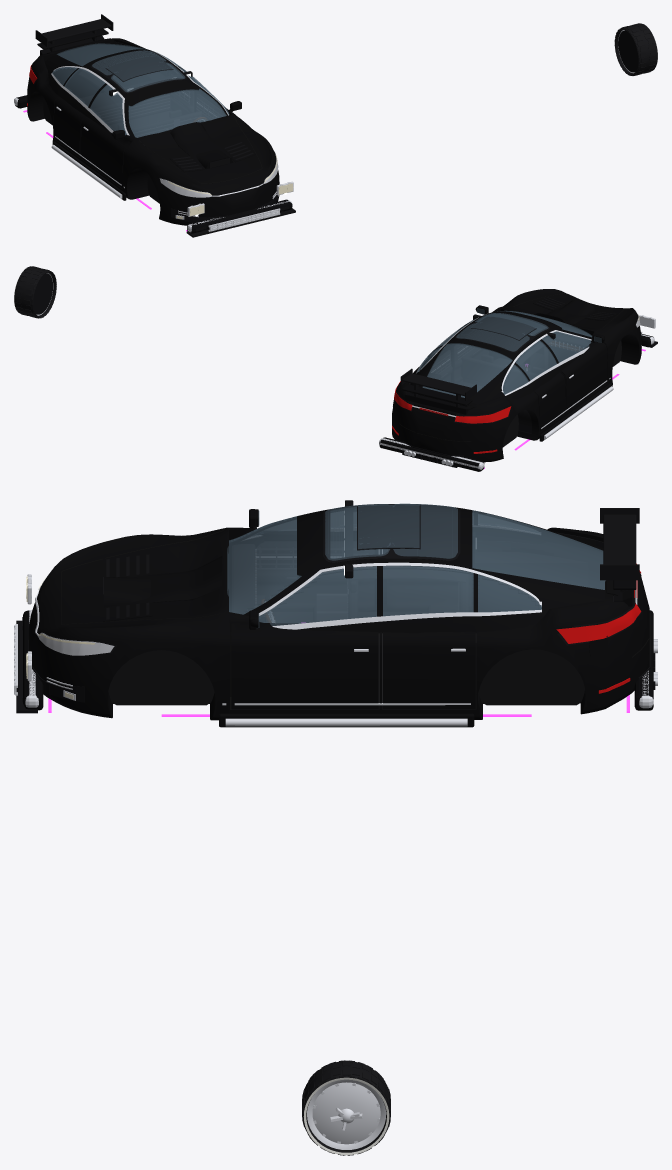
Rendered from VireoE.glb.
The picture shows the model from 3 angles, top to bottom: view 1: azimuth 30°, elevation 25°; view 2: azimuth 150°, elevation 25°; view 3: azimuth 270°, elevation 25°; orthographic projection. The views are drawn at different scales.
Parts seen in each view (by area): view 1: VireoE_Body, VireoE_PanelHood, VireoE_Glass, VireoE_PanelDoorR, VireoE_PanelSideR, VireoE_Dark, VireoE_PanelRoof, VireoE_RoofBody, VireoE_PanelDoorRR, VireoE_OptSeatsBucketsSeat, VireoE_OptHoodCowlBody, VireoEWheel_TireOffroadRubber (+23 smaller); view 2: VireoE_Body, VireoE_RoofGlass__Lid, VireoE_PanelDoorR, VireoE_PanelHood, VireoE_RoofBody, VireoE_PanelSideR, VireoE_Dark, VireoE_PanelDoorRR, VireoE_Glass, VireoE_RoofGlass, VireoEWheel_TireOffroadRubber, VireoE_OptSpoilerGTDark (+25 smaller); view 3: VireoE_Body, VireoE_Under, VireoE_PanelDoorL, VireoE_PanelHood, VireoE_PanelSideL, VireoE_Glass, VireoE_PanelDoorRL, VireoE_RoofGlass__Lid, VireoE_RoofBody, VireoE_RoofGlass, VireoE_Dark, VireoE_RoofGlass__WinDoorL (+21 smaller).
Boxes of the visible parts, box(x1,y1,x2,y2) form: VireoE_Body: box(27, 38, 279, 225); VireoE_PanelHood: box(135, 114, 270, 183); VireoE_Glass: box(92, 50, 226, 137); VireoE_PanelDoorR: box(81, 116, 130, 188); VireoE_PanelSideR: box(34, 78, 167, 221); VireoE_Dark: box(90, 50, 279, 222); VireoE_PanelRoof: box(83, 49, 198, 106); VireoE_RoofBody: box(44, 43, 227, 136); VireoE_PanelDoorRR: box(54, 96, 84, 156); VireoE_OptSeatsBucketsSeat: box(93, 95, 184, 130); VireoE_OptHoodCowlBody: box(170, 122, 230, 165); VireoEWheel_TireOffroadRubber: box(614, 23, 657, 75); VireoE_Body: box(392, 289, 641, 462); VireoE_RoofGlass__Lid: box(422, 343, 512, 397); VireoE_PanelDoorR: box(562, 342, 607, 412); VireoE_PanelHood: box(499, 290, 632, 331); VireoE_RoofBody: box(410, 312, 590, 404); VireoE_PanelSideR: box(505, 321, 640, 439); VireoE_Dark: box(403, 313, 641, 456); VireoE_PanelDoorRR: box(534, 372, 565, 432); VireoE_Glass: box(456, 310, 591, 351); VireoE_RoofGlass: box(417, 315, 566, 394); VireoEWheel_TireOffroadRubber: box(14, 266, 56, 318); VireoE_OptSpoilerGTDark: box(400, 368, 476, 407); VireoE_Body: box(28, 527, 649, 719); VireoE_Under: box(108, 532, 634, 705); VireoE_PanelDoorL: box(231, 623, 378, 708); VireoE_PanelHood: box(63, 527, 227, 628); VireoE_PanelSideL: box(91, 628, 578, 720); VireoE_Glass: box(227, 503, 457, 614); VireoE_PanelDoorRL: box(383, 631, 475, 708); VireoE_RoofGlass__Lid: box(472, 510, 605, 589); VireoE_RoofBody: box(243, 510, 604, 633); VireoE_RoofGlass: box(304, 515, 541, 612); VireoE_Dark: box(28, 504, 650, 702); VireoE_RoofGlass__WinDoorL: box(259, 579, 376, 625).
Bounding box in the file's own units: 34.86 × 6.87 × 19.44.
